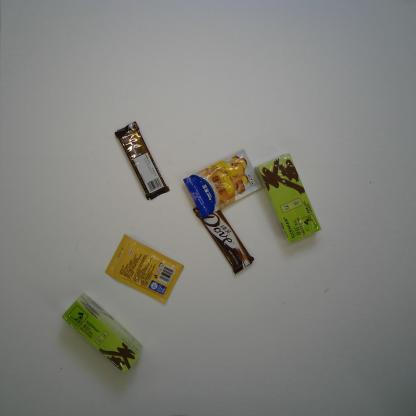Chocolate: (114, 120, 170, 201), (192, 205, 255, 276)
Instant Drink: (62, 292, 143, 376), (254, 152, 322, 244)
Seasoner: (183, 148, 263, 219), (104, 234, 185, 304)
